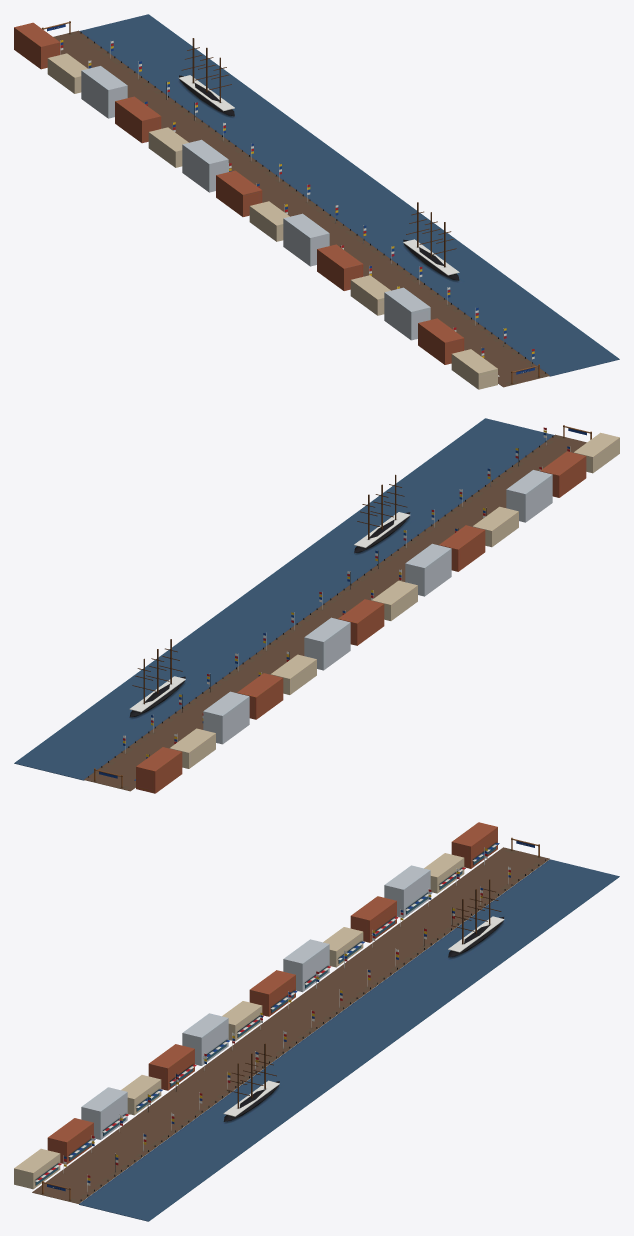
The model's file is muelle_harbor.glb.
The picture shows the model from 3 angles, top to bottom: view 1: azimuth 30°, elevation 25°; view 2: azimuth 150°, elevation 25°; view 3: azimuth 330°, elevation 25°; orthographic projection.
Parts seen in each view (by area): view 1: muelle_harbor; view 2: muelle_harbor; view 3: muelle_harbor.
Part boxes in pixels (<box>): muelle_harbor: <box>14,14,619,389</box>; muelle_harbor: <box>14,418,619,793</box>; muelle_harbor: <box>14,822,619,1221</box>.
Size of the model in its own units: 71 by 25.25 by 420.
Materials: 1 (1 with a texture image).
